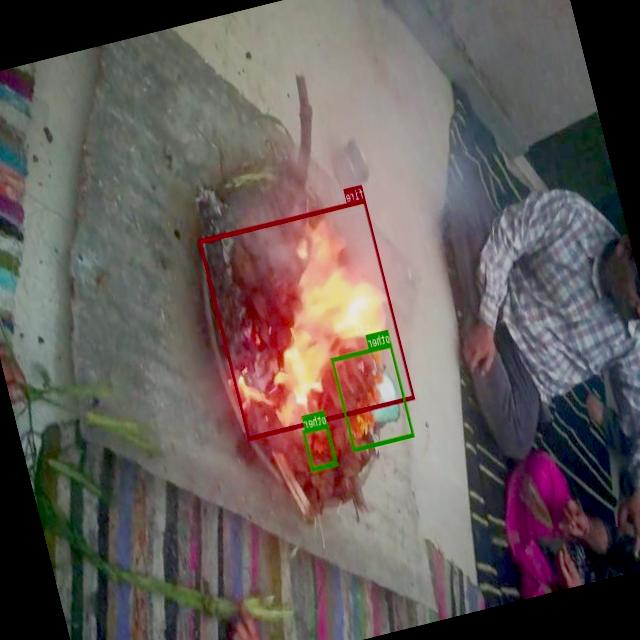fire: (198, 198, 415, 438)
